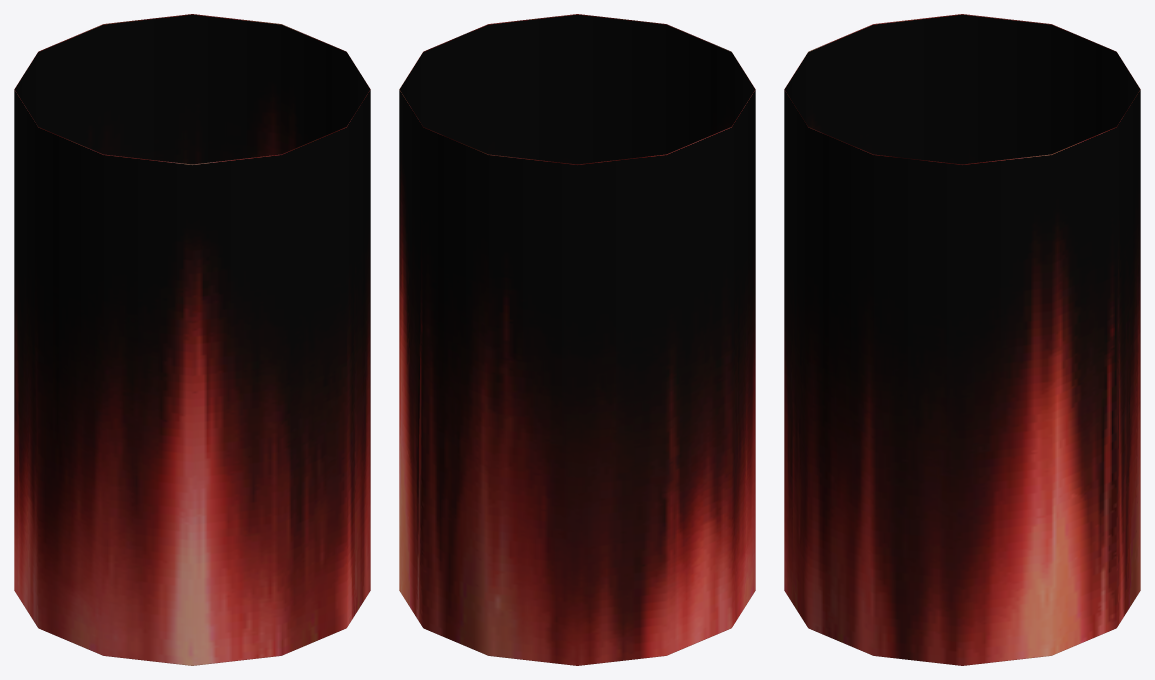
3 renders of one model, left to right at view 1: azimuth 30°, elevation 25°; view 2: azimuth 150°, elevation 25°; view 3: azimuth 270°, elevation 25°, orthographic.
Parts seen in each view (by area): view 1: Cylinder015; view 2: Cylinder015; view 3: Cylinder015.
Boxes of the visible parts, x1,y1,x2,y2 form: Cylinder015: (14, 14, 370, 665); Cylinder015: (399, 14, 755, 665); Cylinder015: (784, 14, 1140, 665).
Size of the model in its own units: 163 by 163 by 254.
